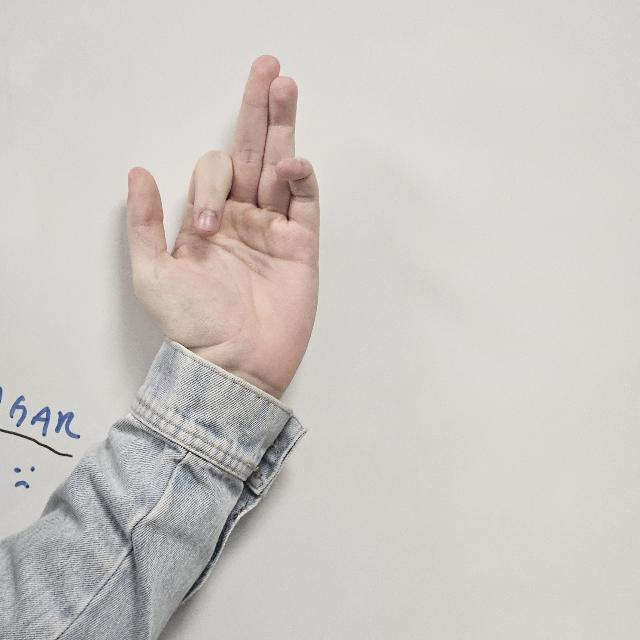R: (123, 50, 327, 422)
